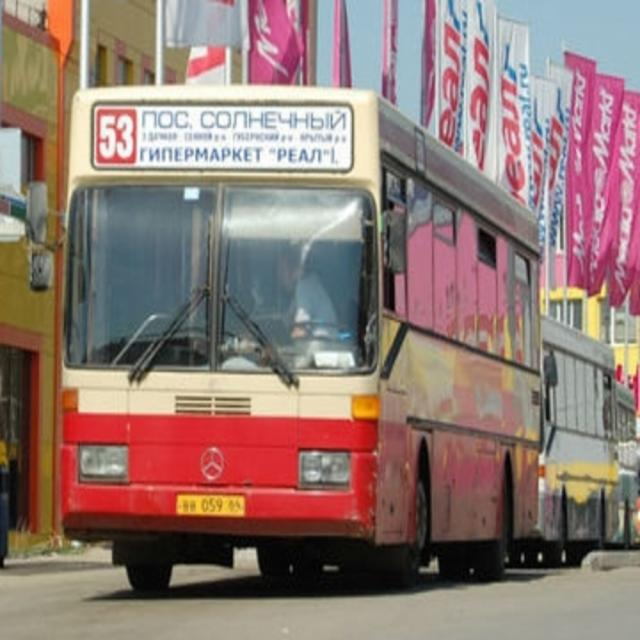number-of-bus: (97, 111, 137, 169)
